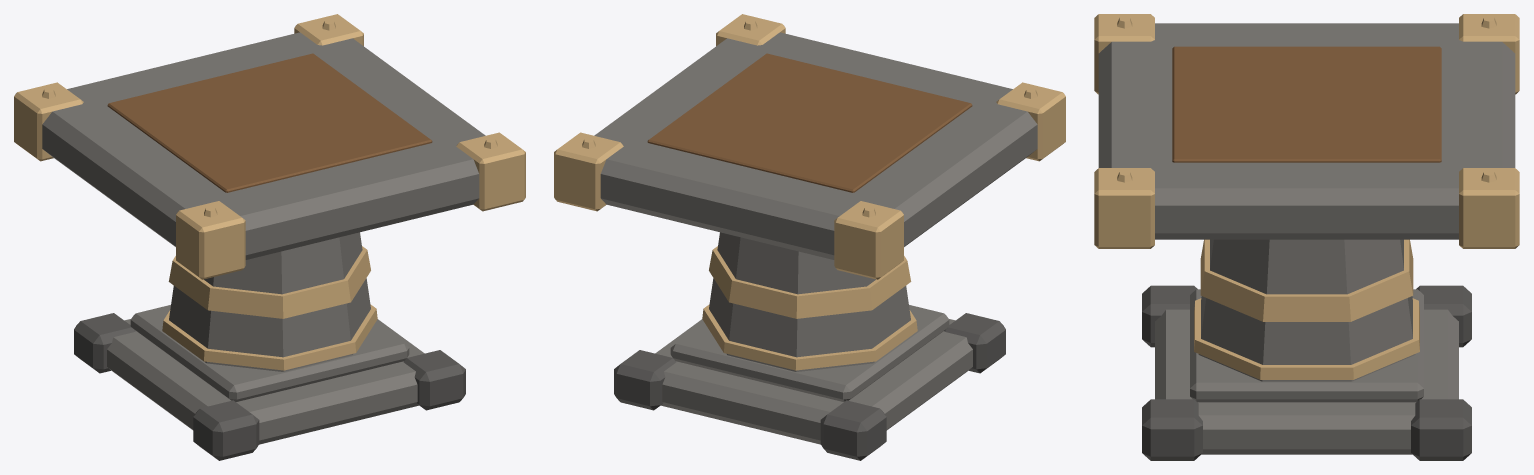
Rendered from table.glb.
3 renders of one model, left to right at view 1: azimuth 30°, elevation 25°; view 2: azimuth 150°, elevation 25°; view 3: azimuth 270°, elevation 25°, orthographic. The views are drawn at different scales.
Parts seen in each view (by area): view 1: top, top_inlay_oak, base_plinth, pedestal, base_step, pedestal_band, corner_cap_fl, corner_cap_fr, pedestal_band_low, plinth_foot_fl, corner_cap_bl, plinth_foot_fr (+2 smaller); view 2: top, top_inlay_oak, base_plinth, pedestal, base_step, pedestal_band, corner_cap_bl, corner_cap_br, pedestal_band_low, plinth_foot_bl, corner_cap_fl, plinth_foot_br (+2 smaller); view 3: top, top_inlay_oak, pedestal, base_plinth, base_step, pedestal_band, corner_cap_br, corner_cap_fr, pedestal_band_low, plinth_foot_br, plinth_foot_fr, corner_cap_bl (+3 smaller).
Part boxes in pixels (box(x1,y1,x2,y2)): top: box(42, 32, 485, 259); top_inlay_oak: box(107, 53, 432, 192); base_plinth: box(107, 319, 424, 444); pedestal: box(169, 232, 370, 371); base_step: box(130, 305, 409, 401); pedestal_band: box(168, 246, 370, 318); corner_cap_fl: box(176, 201, 245, 279); corner_cap_fr: box(456, 132, 525, 211); pedestal_band_low: box(162, 304, 377, 370); plinth_foot_fl: box(193, 400, 259, 460); corner_cap_bl: box(14, 82, 83, 161); plinth_foot_fr: box(403, 350, 465, 410); top: box(594, 32, 1037, 259); top_inlay_oak: box(647, 53, 972, 192); base_plinth: box(655, 319, 972, 444); pedestal: box(709, 232, 910, 371); base_step: box(670, 305, 949, 401); pedestal_band: box(709, 246, 911, 318); corner_cap_bl: box(834, 201, 903, 279); corner_cap_br: box(554, 132, 623, 211); pedestal_band_low: box(702, 304, 917, 370); plinth_foot_bl: box(820, 400, 886, 460); corner_cap_fl: box(996, 82, 1065, 161); plinth_foot_br: box(614, 350, 676, 410); top: box(1098, 23, 1515, 239); top_inlay_oak: box(1172, 46, 1441, 162); pedestal: box(1198, 239, 1415, 381); base_plinth: box(1155, 309, 1458, 454); base_step: box(1190, 289, 1423, 402); pedestal_band: box(1200, 239, 1413, 321); corner_cap_br: box(1459, 168, 1519, 248); corner_cap_fr: box(1094, 168, 1154, 248); pedestal_band_low: box(1194, 298, 1419, 379); plinth_foot_br: box(1411, 399, 1471, 460); plinth_foot_fr: box(1142, 399, 1202, 460); corner_cap_bl: box(1459, 14, 1519, 94).
Size of what is drawn, in the model's own units: 0.98 by 0.76 by 0.98.
